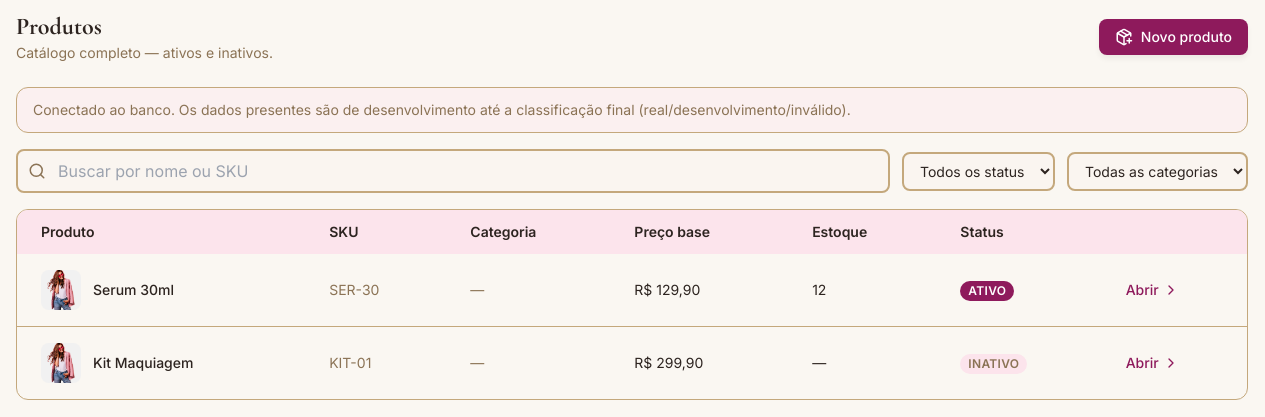
Test: AdminProdutosPage › filtro de status mostra só inativos
Step 1. Select "Inativos" in the dropdown named "filtrar por status" → (978, 171), box x1=902 y1=152 x2=1055 y2=190
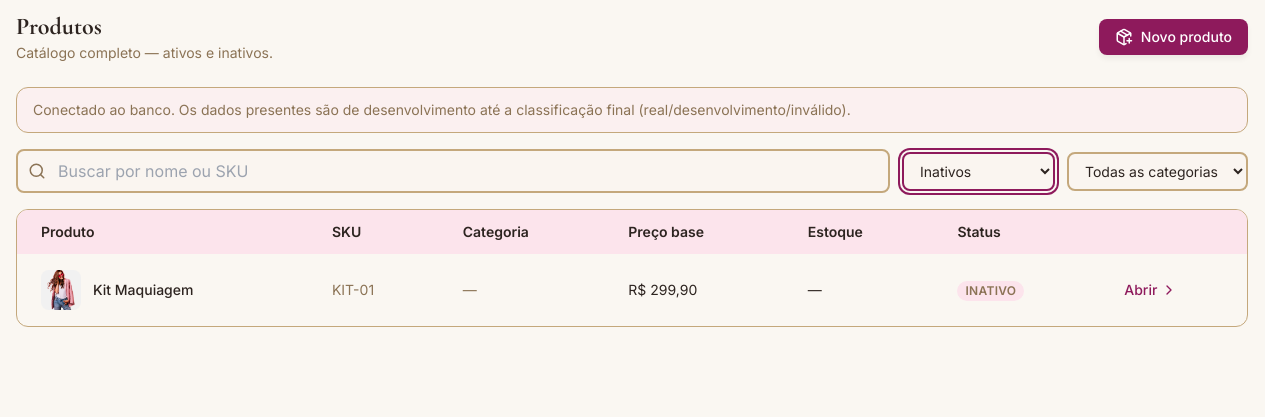
Expected: the text "Kit Maquiagem" is shown, x1=93 y1=280 x2=194 y2=300
Expected: the link "Serum 30ml" is gone
